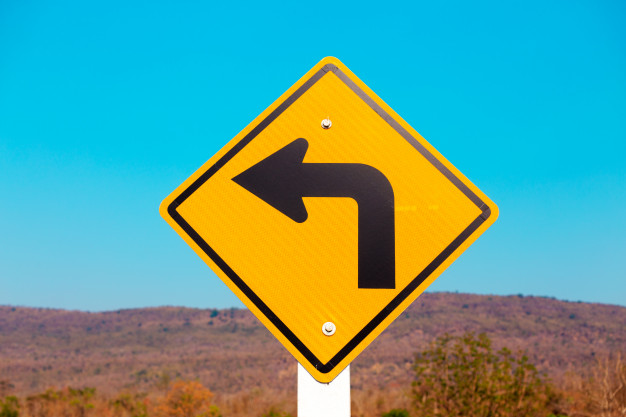left: (156, 52, 500, 386)
